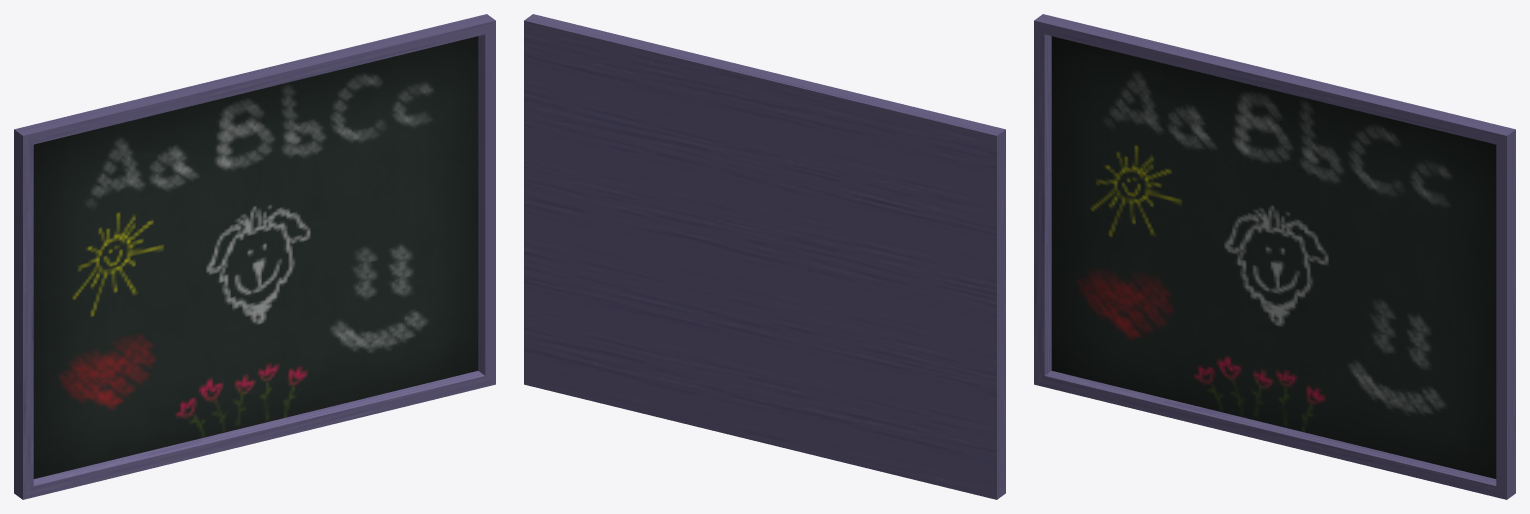
File: Chalkboard_B.FBX
The picture shows the model from 3 angles, left to right: view 1: azimuth 30°, elevation 25°; view 2: azimuth 150°, elevation 25°; view 3: azimuth 330°, elevation 25°; orthographic projection.
Parts seen in each view (by area): view 1: Chalk_Board; view 2: Chalk_Board; view 3: Chalk_Board.
Part boxes in pixels (bbox=[...]): Chalk_Board: bbox=[14, 14, 495, 499]; Chalk_Board: bbox=[524, 14, 1005, 499]; Chalk_Board: bbox=[1034, 14, 1515, 499].
Size of the model in its own units: 143 by 105 by 4.7.
